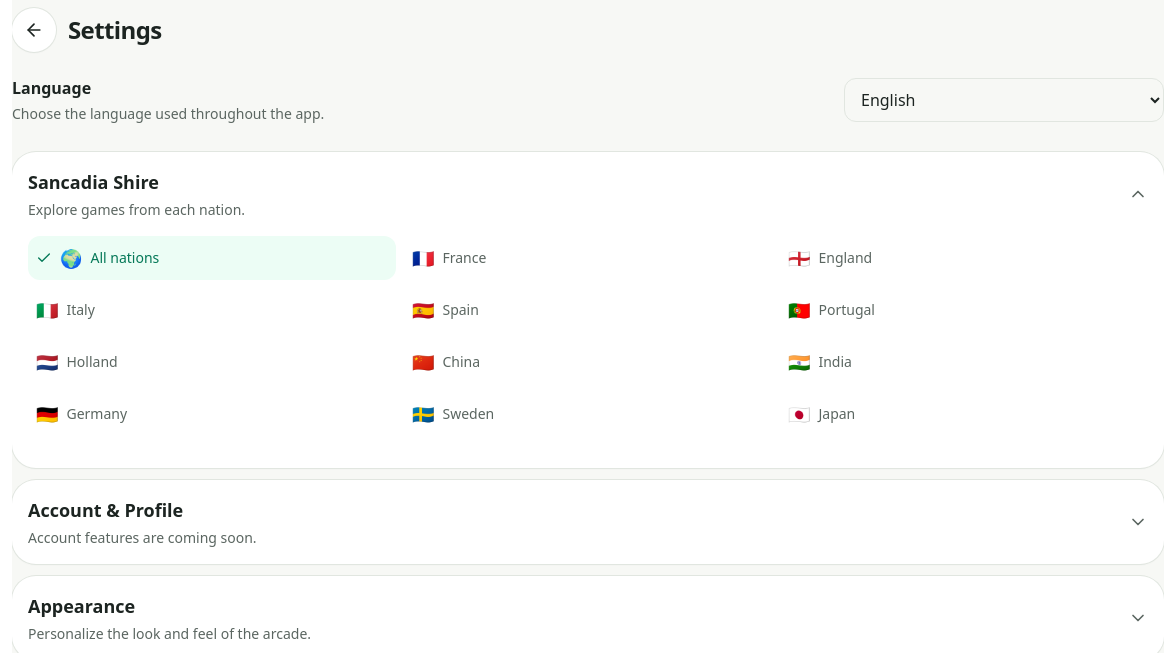
Test: nation game filter › opens the selected nation games from the Sancadia Shire links
The width and height of the screenshot is (1176, 653).
Click the link with aria-label "Browse Portugal games": (832, 310) [788,298,875,322]
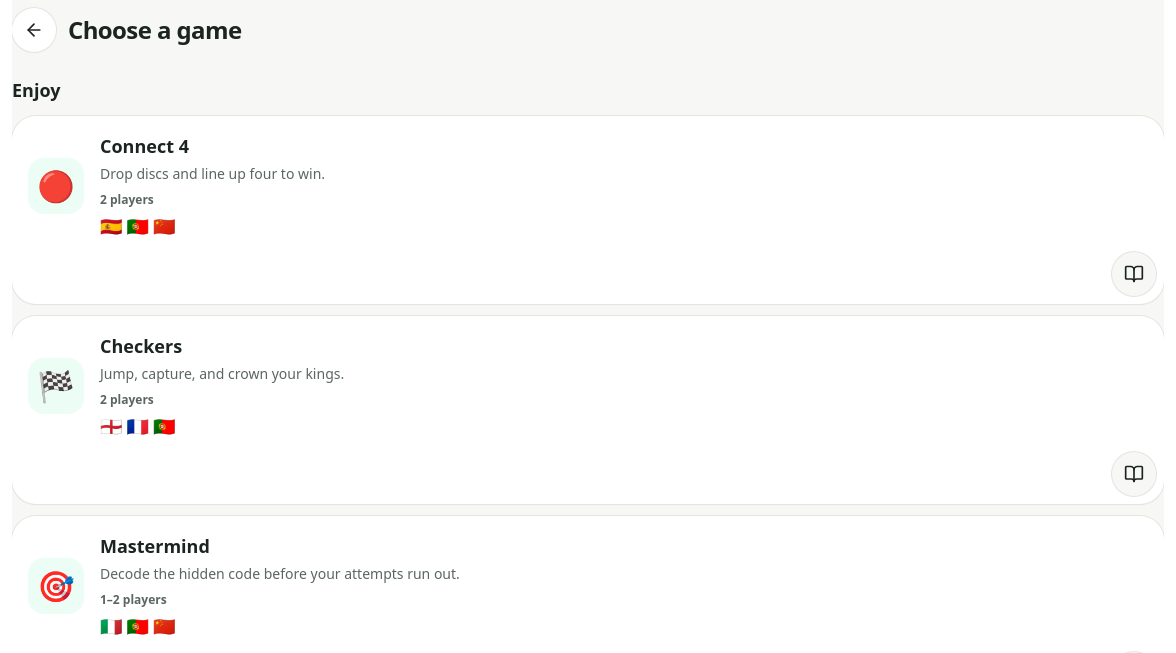
Expected: the heading "Enjoy" is shown, [12,78,60,102]
Expected: the field labelled "Game group" is gone
Expected: the link "🌍 All nations" is gone
